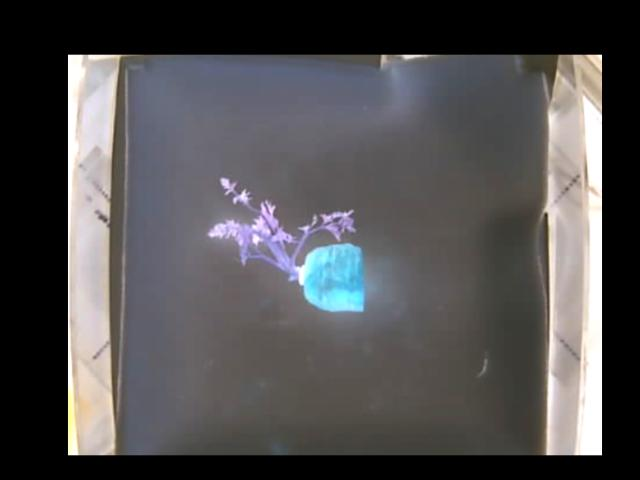Carrot: (205, 177, 363, 310)
